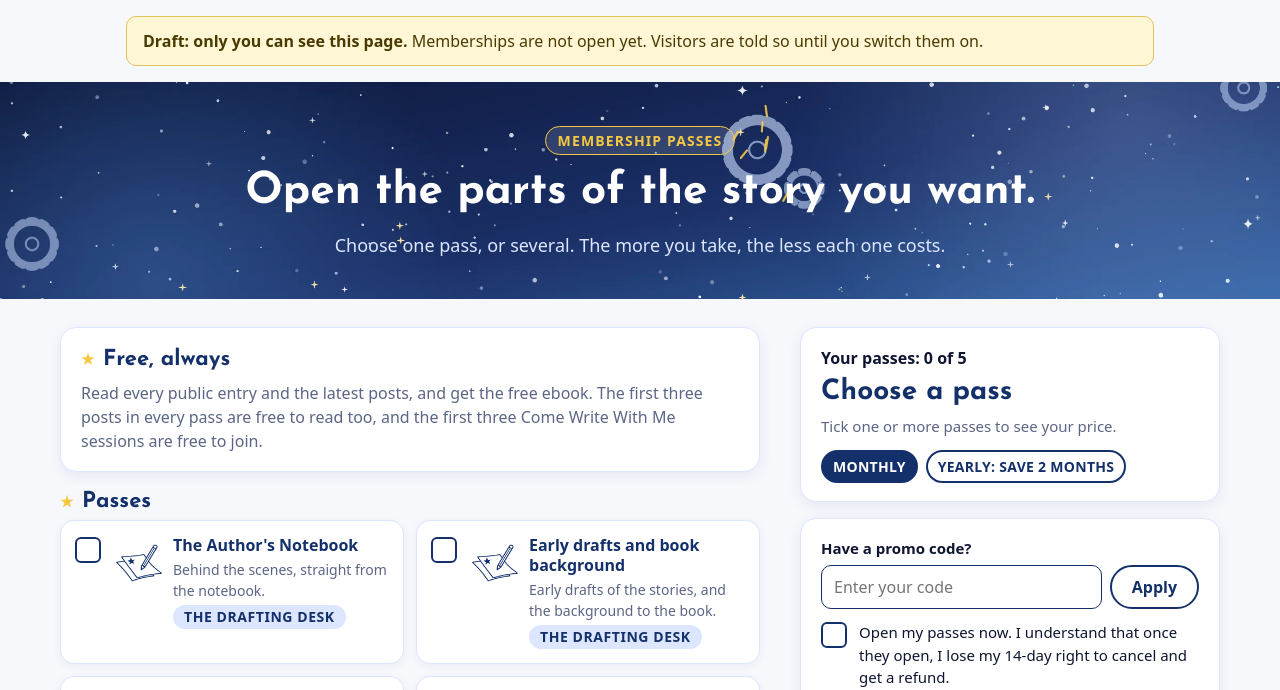
the price box › shows the launch offer for three passes exactly as drawn: strike-through price, half price for the first year, then the full price, and the yearly way
The image size is (1280, 690).
Click the checkbox labelled "The Author's Notebook".
click(232, 592)  # box [60,520,404,664]
(page scrolled)
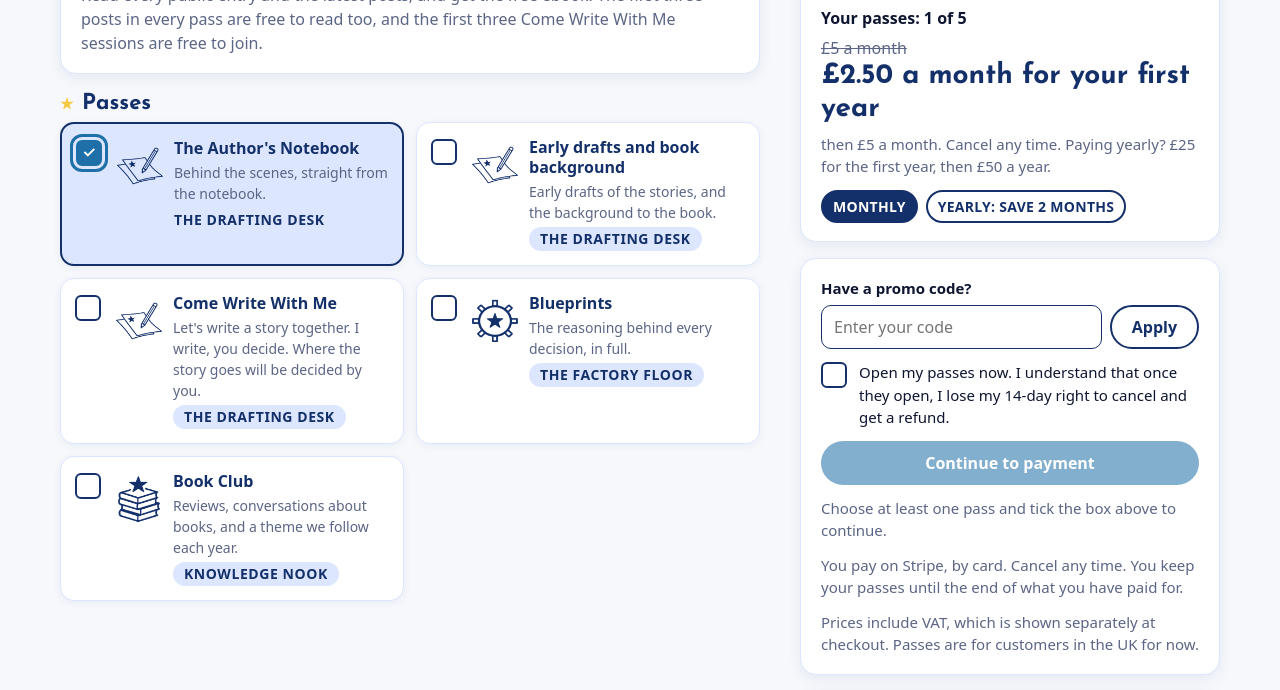
Click the checkbox labelled "Blueprints".
click(588, 361)  # box [416,278,760,444]
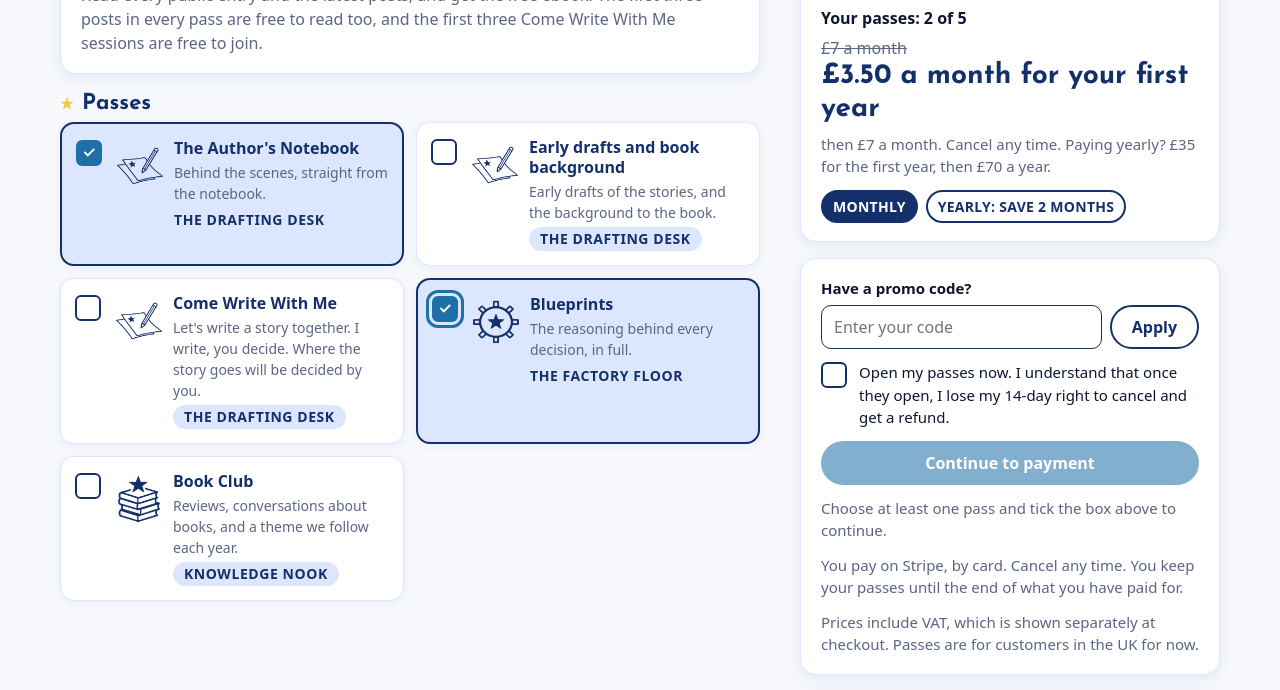
Click the checkbox labelled "Book Club".
click(232, 529)  # box [60,456,404,601]
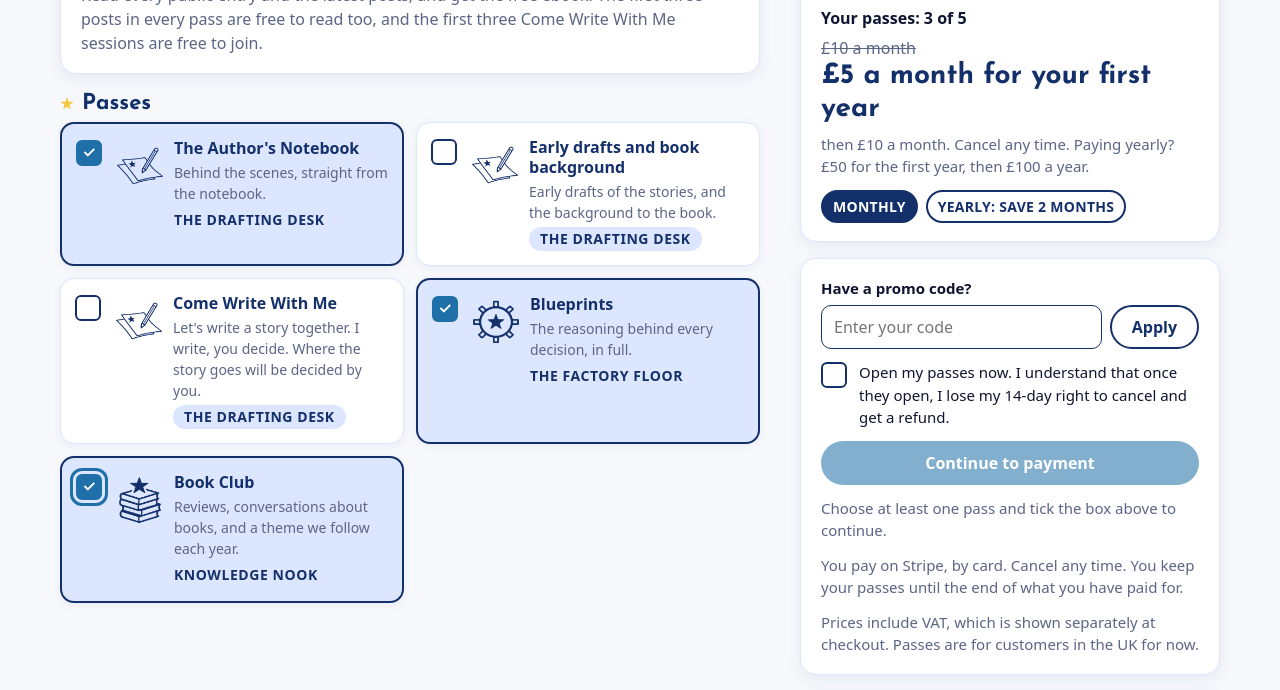
Check: the text "Your passes: 3 of 5" is shown, box [821,7,967,29]
Check: the text "£5 a month for your first year" is shown, box [821,60,1199,127]
Check: the text "then £10 a month. Cancel any time. Paying yearly? £50 for the first year, then £100 a year." is shown, box [821,134,1174,176]
